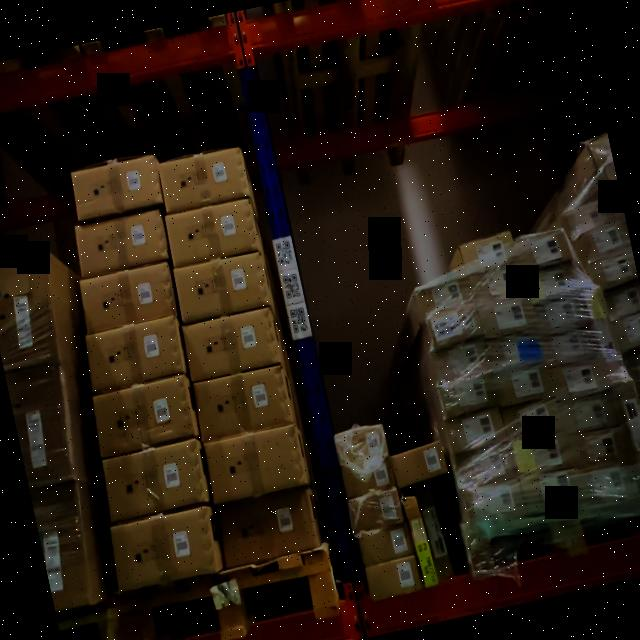box: (104, 444, 204, 524), (110, 510, 214, 584), (92, 379, 194, 450), (217, 488, 316, 560), (181, 312, 279, 384), (205, 430, 302, 500), (194, 372, 290, 440), (86, 323, 182, 387), (175, 258, 268, 324), (166, 203, 259, 266), (80, 268, 174, 330), (159, 146, 249, 209), (75, 214, 167, 275), (72, 157, 160, 215), (404, 498, 436, 585), (448, 411, 507, 454), (462, 484, 524, 524), (480, 294, 536, 336), (457, 452, 515, 492), (559, 391, 615, 432), (364, 556, 421, 596), (495, 366, 552, 406), (507, 402, 561, 444), (484, 336, 540, 376), (427, 306, 481, 346), (552, 360, 606, 400), (514, 438, 568, 477), (439, 380, 494, 418), (544, 331, 599, 369), (356, 526, 410, 564), (536, 298, 590, 336), (570, 430, 624, 468), (518, 231, 570, 269), (528, 265, 582, 301), (389, 449, 446, 483), (575, 464, 632, 498), (434, 346, 487, 382), (416, 277, 472, 311), (524, 472, 576, 508), (342, 460, 394, 495), (336, 422, 386, 458), (351, 495, 402, 530), (473, 266, 523, 298), (464, 236, 516, 266)
